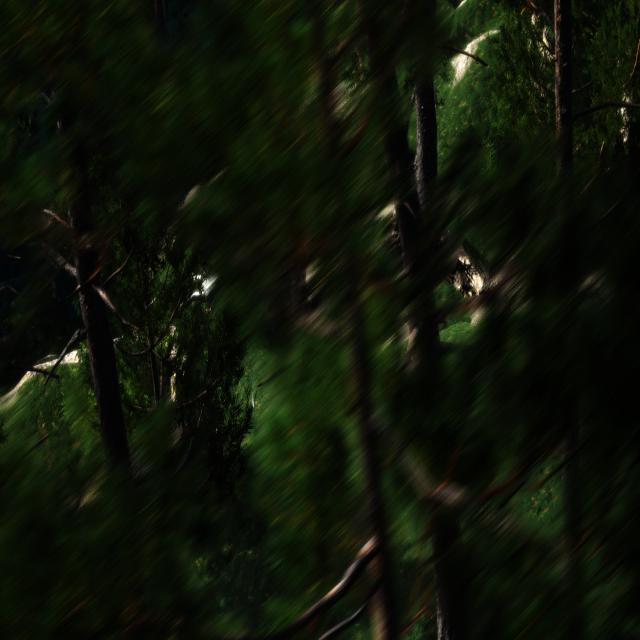Human: (173, 262, 216, 316)
